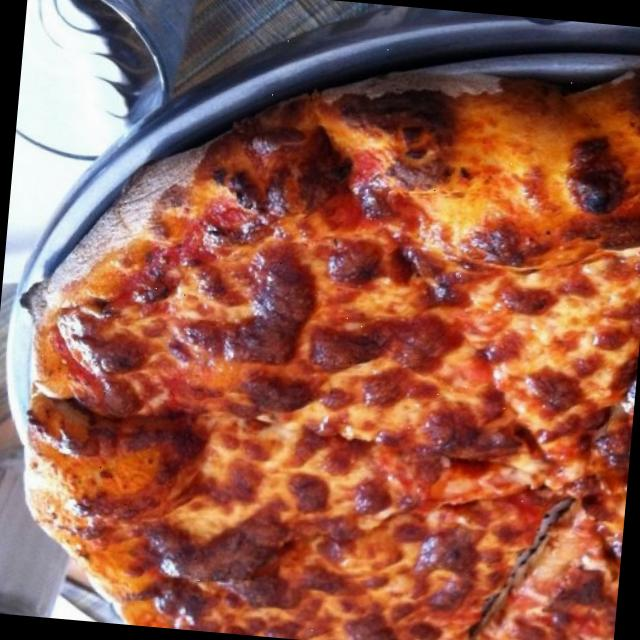pizza: (24, 68, 640, 640)
